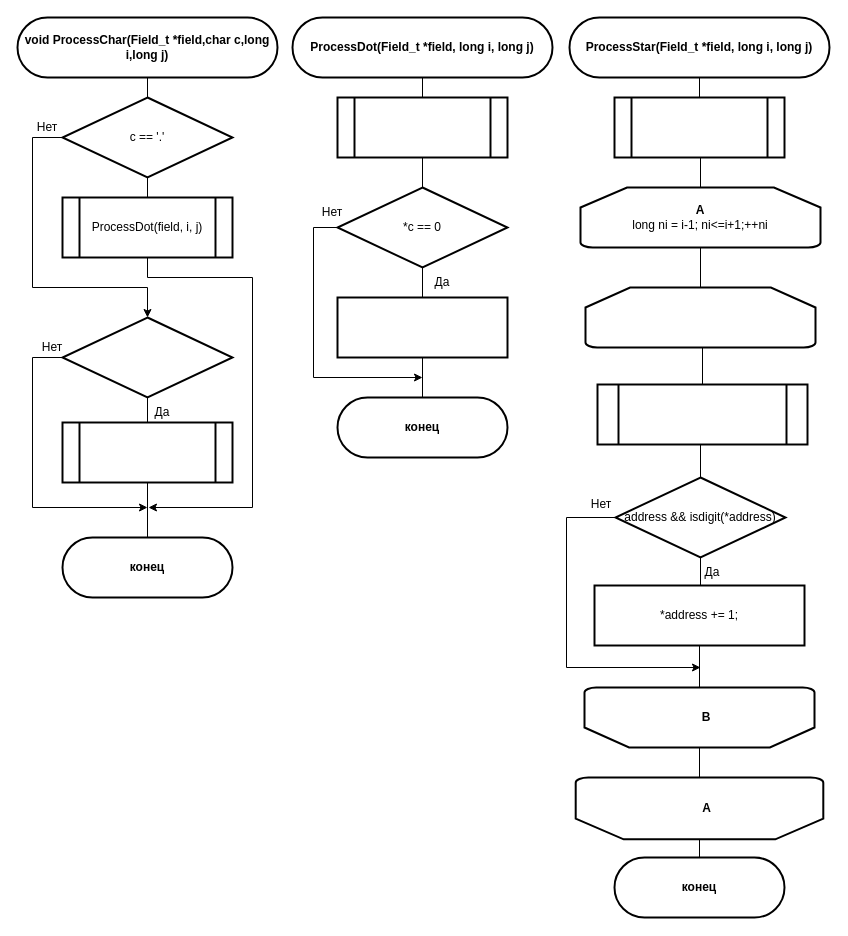
This 848x936 diagram has some shape labels left out. The centre of each missing label's shape, as x and y in pixels:
"*c = '0'" goes at pixel 422 327.
"*CellAt(field, i, j) = '*'" goes at pixel 699 127.
"B long nj = j-1; nj<=j+1;++nj" goes at pixel 700 317.
"c == '*'" goes at pixel 147 357.
"char *address=CellAt(field,ni,nj)" goes at pixel 702 414.
"char *c = CellAt(field, i, j)" goes at pixel 422 127.
"ProcessStar(field, i, j)" goes at pixel 147 452.
